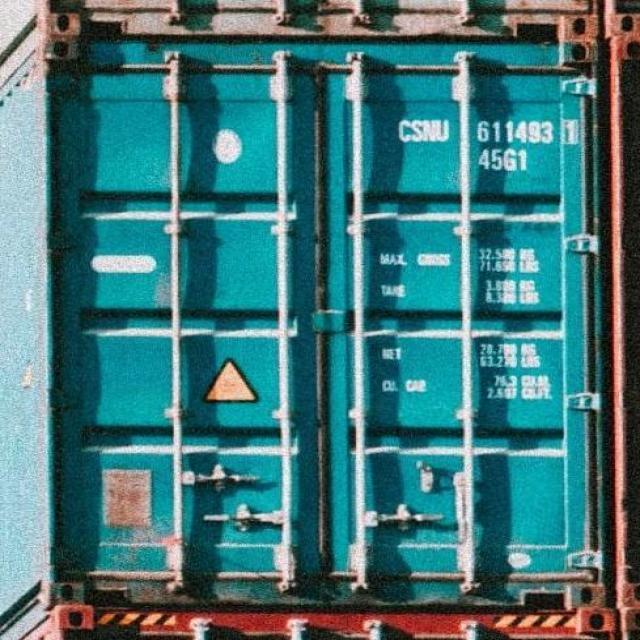ISO: (482, 148, 528, 174)
container_number: (400, 118, 574, 144)
